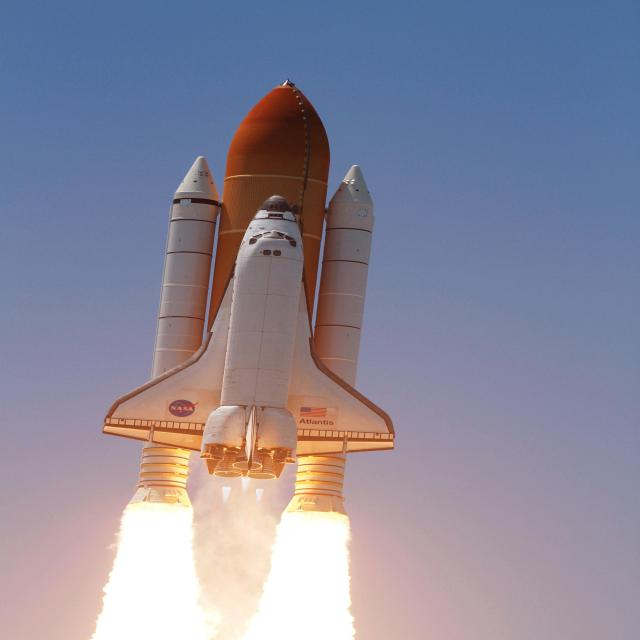medium_debris: (85, 472, 412, 640)
rocket: (83, 187, 396, 484)
